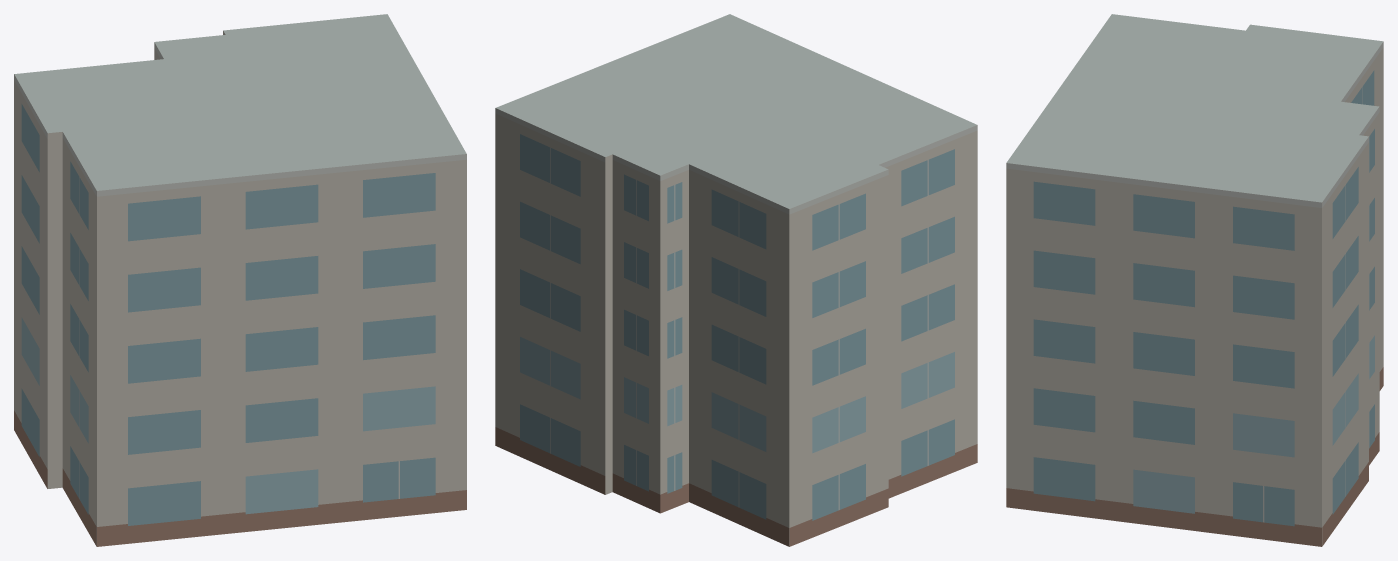
Rendered from survey-upis-32792055.glb.
3 views of the same model, side by side, from view 1: azimuth 30°, elevation 25°; view 2: azimuth 150°, elevation 25°; view 3: azimuth 270°, elevation 25° (orthographic). The views are drawn at different scales.
Parts seen in each view (by area): view 1: survey-upis-32792055.tmp; view 2: survey-upis-32792055.tmp; view 3: survey-upis-32792055.tmp.
Boxes of the visible parts, x1,y1,x2,y2 form: survey-upis-32792055.tmp: [14, 14, 466, 546]; survey-upis-32792055.tmp: [495, 14, 977, 546]; survey-upis-32792055.tmp: [1006, 14, 1383, 546].
Bounding box in the file's own units: 17.63 × 15 × 14.91.
